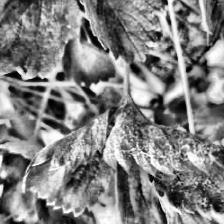Powdery Mildew Leaf: (102, 92, 224, 219)
